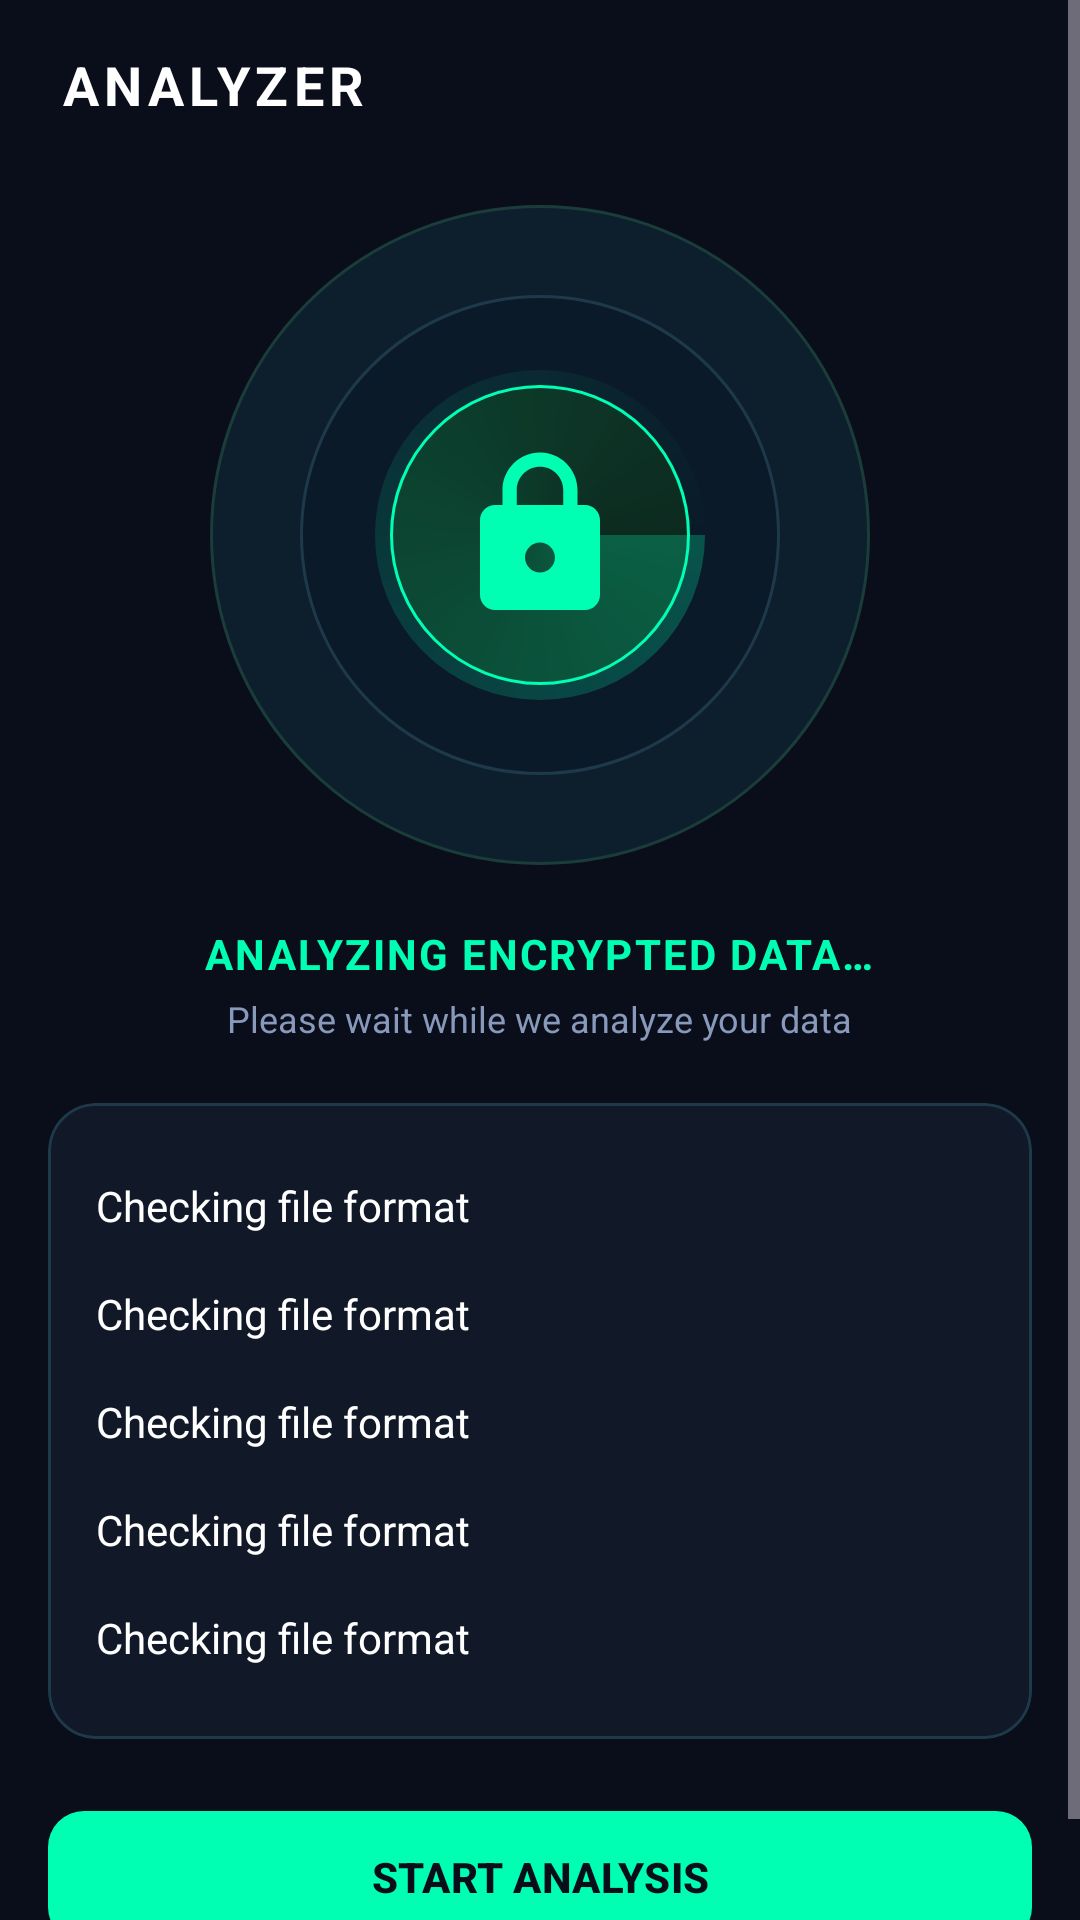

Icon click points for this 1080 × 1920 phone screenshot, format point (x, y):
lock: point (555, 538)
